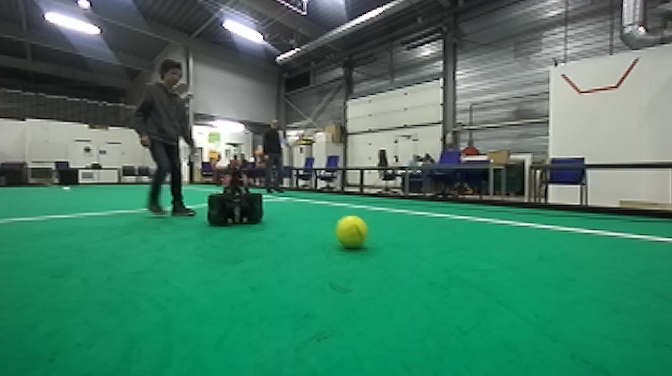ball: (332, 211, 370, 253)
human: (137, 57, 198, 226), (257, 118, 289, 199)
robot: (205, 140, 262, 229)
